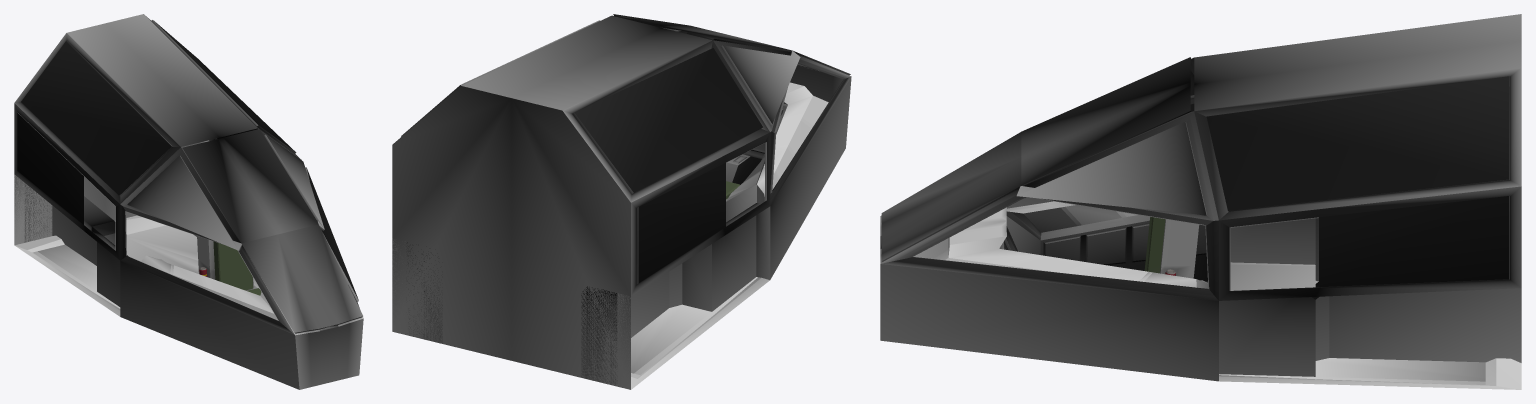
Rendered from ship.fbx.
3 views of the same model, side by side, from view 1: azimuth 30°, elevation 25°; view 2: azimuth 150°, elevation 25°; view 3: azimuth 270°, elevation 25° (orthographic). The views are drawn at different scales.
Parts seen in each view (by area): view 1: Cube.003, Cube.001, Cube.002; view 2: Cube.003, Cube.001; view 3: Cube.003, Cube.001, Cube.002.
Part boxes in pixels (x1,y1,x2,y2): Cube.003: [14, 14, 363, 389]; Cube.001: [14, 21, 362, 332]; Cube.002: [197, 236, 261, 295]; Cube.003: [392, 14, 851, 389]; Cube.001: [574, 14, 828, 389]; Cube.003: [880, 14, 1521, 384]; Cube.001: [881, 57, 1521, 389]; Cube.002: [1144, 217, 1199, 278].
Bounding box in the file's own units: 182 × 188 × 383.
